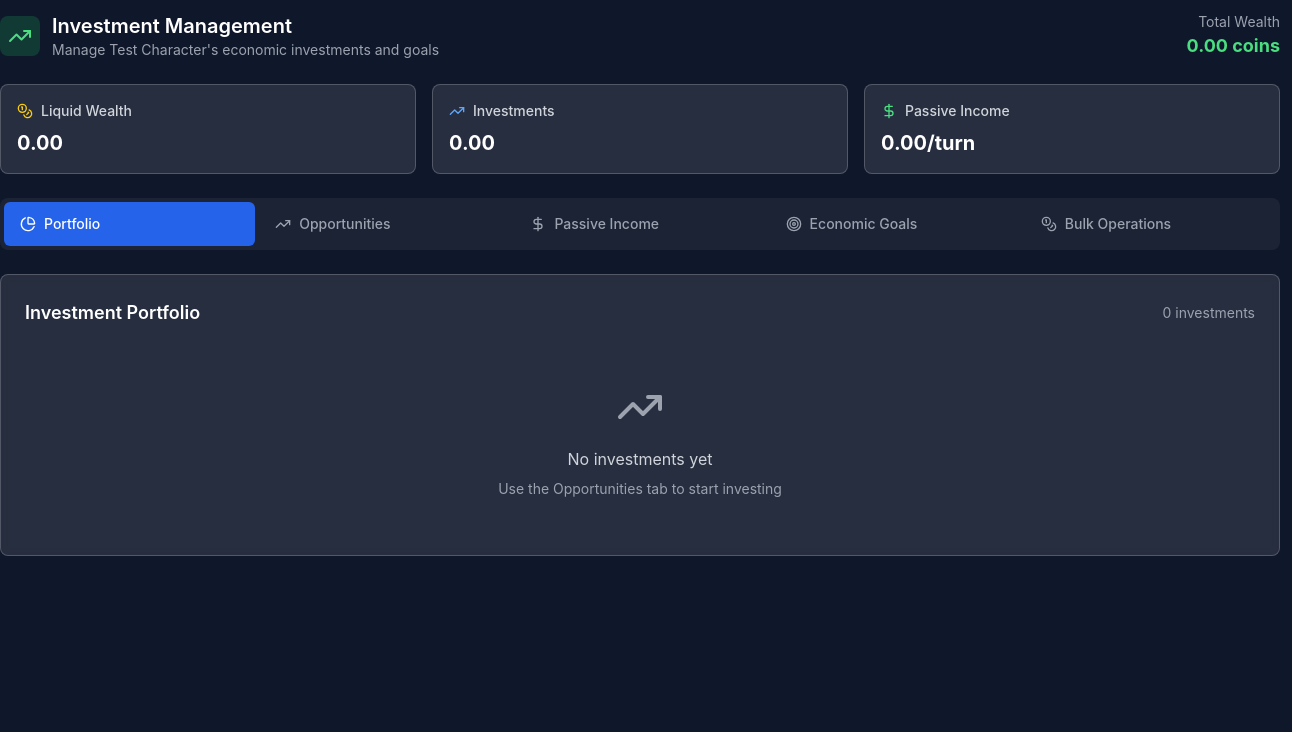
it: InvestmentEditor Integration Tests › Integration with Character System › follows existing validation patterns
The image size is (1292, 732).
Step 1. Click the button "Opportunities" → (385, 224), box [259,202,510,246]
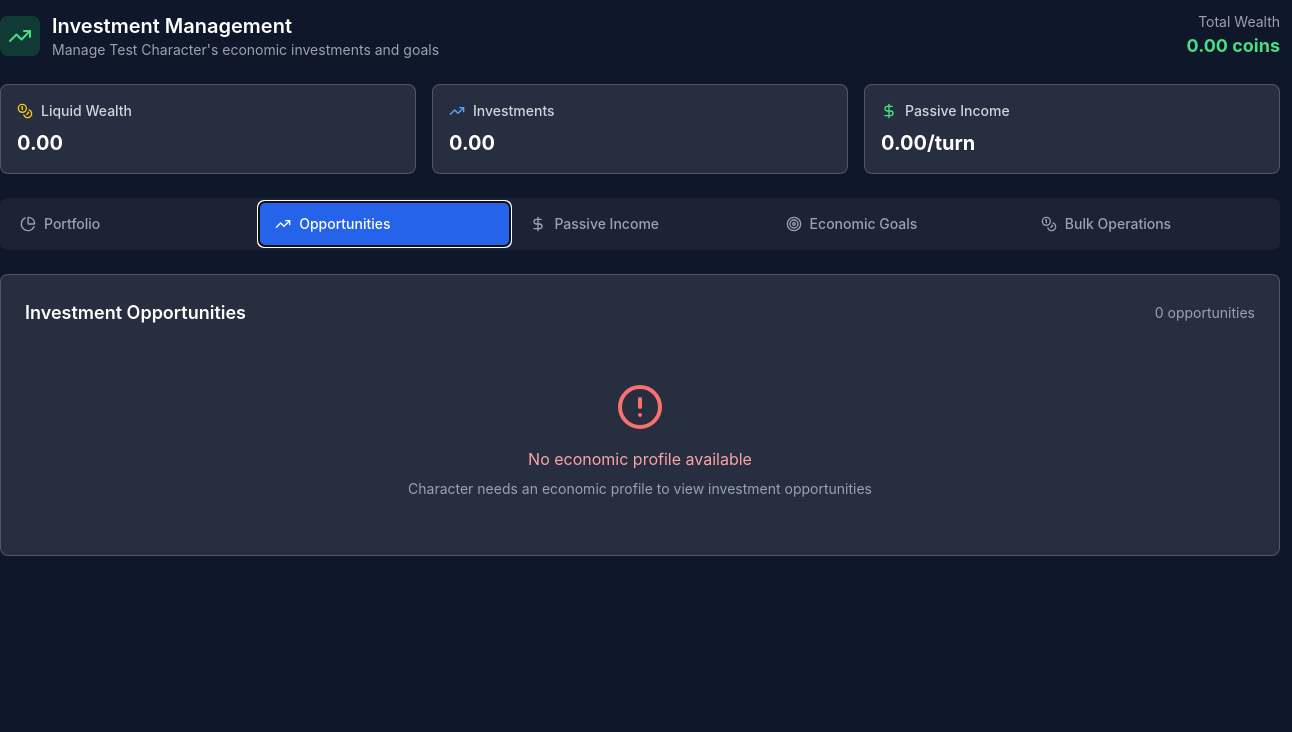
Expected: the text "No economic profile available" is shown, [528,449,752,469]
